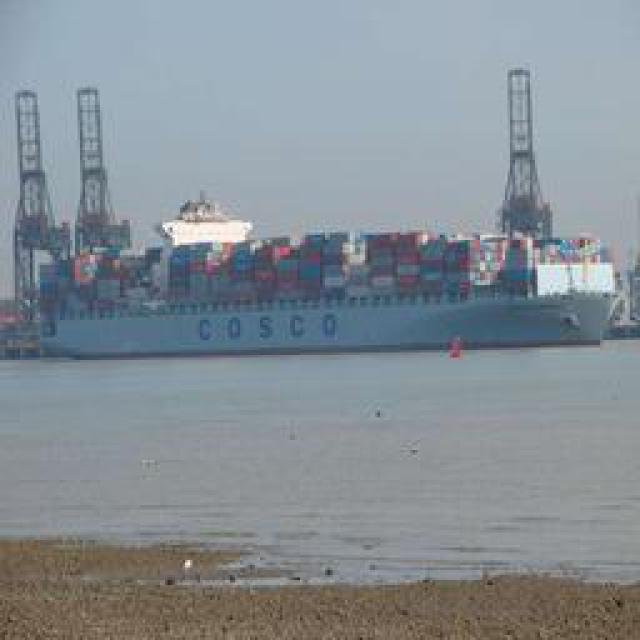Ship: (16, 176, 640, 363)
